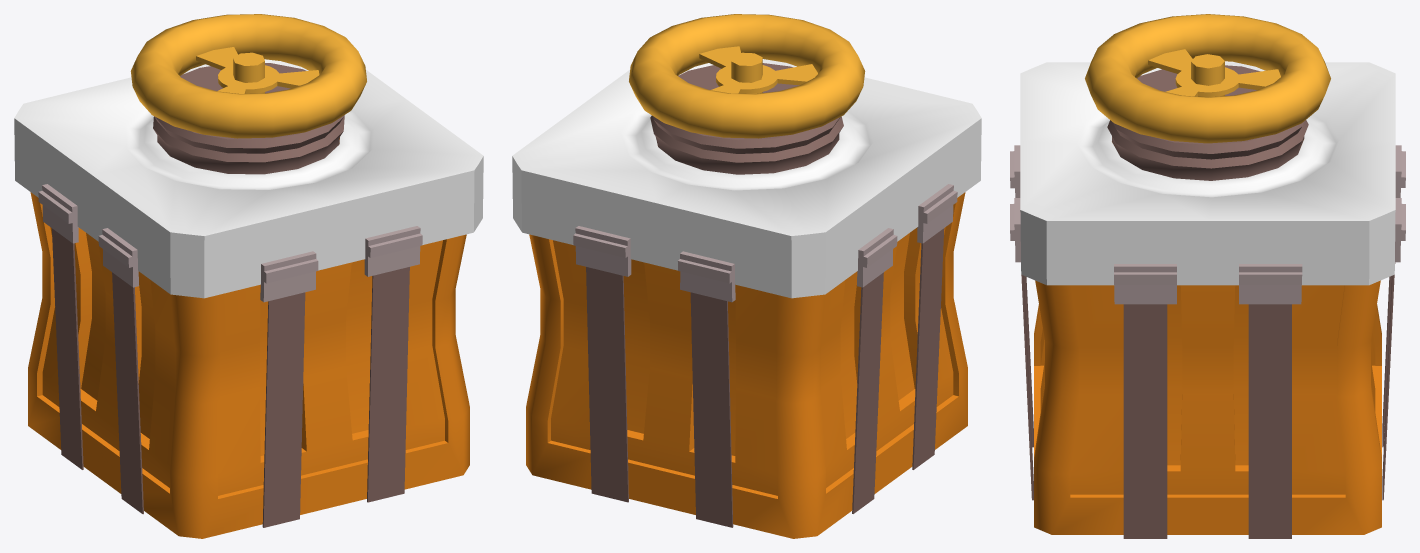
The picture shows the model from 3 angles, left to right: view 1: azimuth 30°, elevation 25°; view 2: azimuth 150°, elevation 25°; view 3: azimuth 270°, elevation 25°; orthographic projection. The views are drawn at different scales.
Parts seen in each view (by area): view 1: SM_Box; view 2: SM_Box; view 3: SM_Box.
Boxes of the visible parts, box(x1,y1,x2,y2) form: SM_Box: box(14, 14, 483, 538); SM_Box: box(512, 14, 981, 538); SM_Box: box(1010, 14, 1405, 538).
Bounding box in the file's own units: 1.15 × 1.31 × 1.15.
